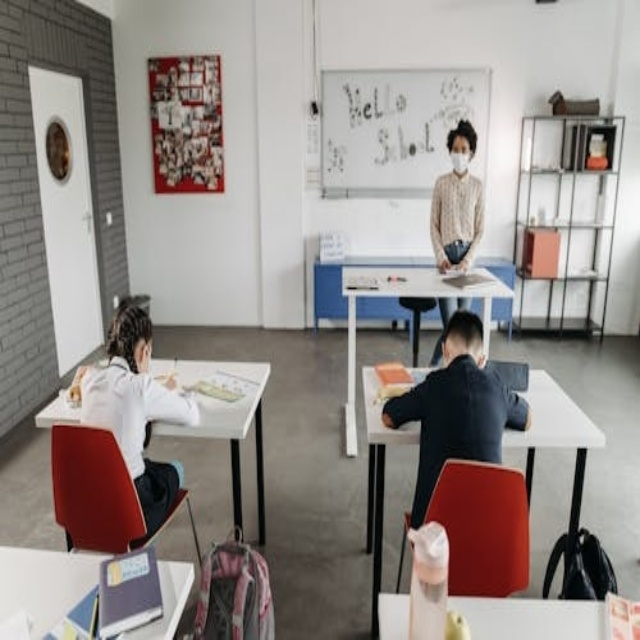Mascara: (448, 142, 470, 172)
